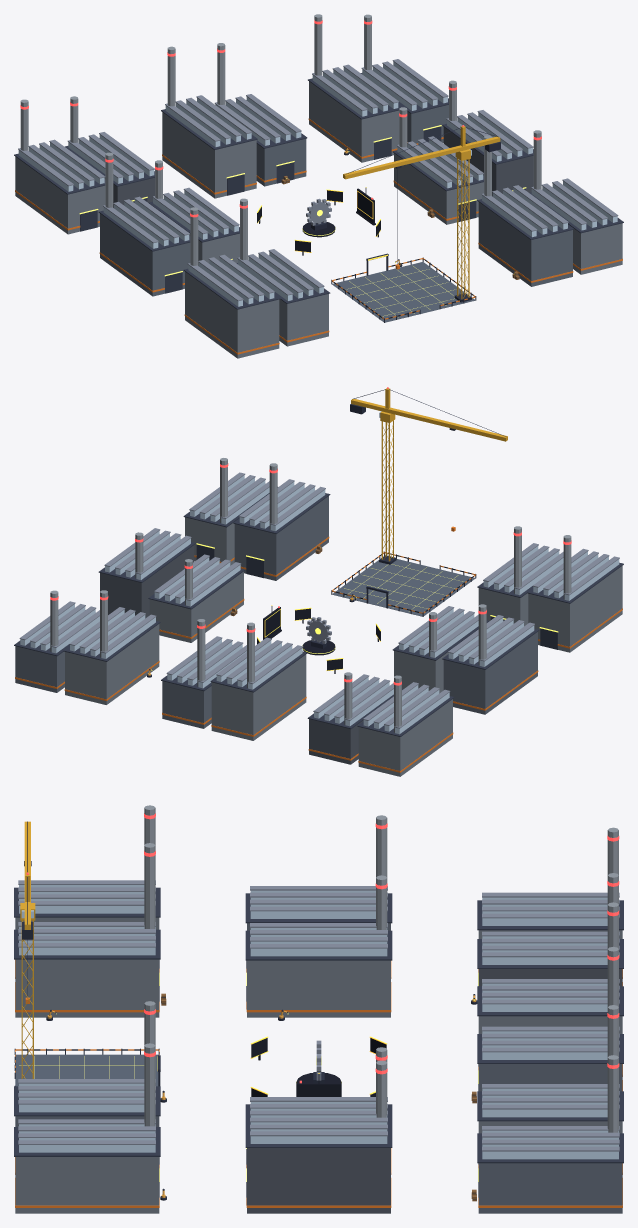
3 views of the same model, one above another, from view 1: azimuth 30°, elevation 25°; view 2: azimuth 150°, elevation 25°; view 3: azimuth 270°, elevation 25° (orthographic). The views are drawn at different scales.
Parts seen in each view (by area): view 1: district_city_taller.lod1; view 2: district_city_taller.lod1; view 3: district_city_taller.lod1.
Part boxes in pixels (x1,y1,x2,y2): district_city_taller.lod1: [14, 14, 623, 358]; district_city_taller.lod1: [14, 387, 623, 776]; district_city_taller.lod1: [14, 805, 623, 1213].
Bounding box in the file's own units: 97.4 × 41.97 × 97.4.
